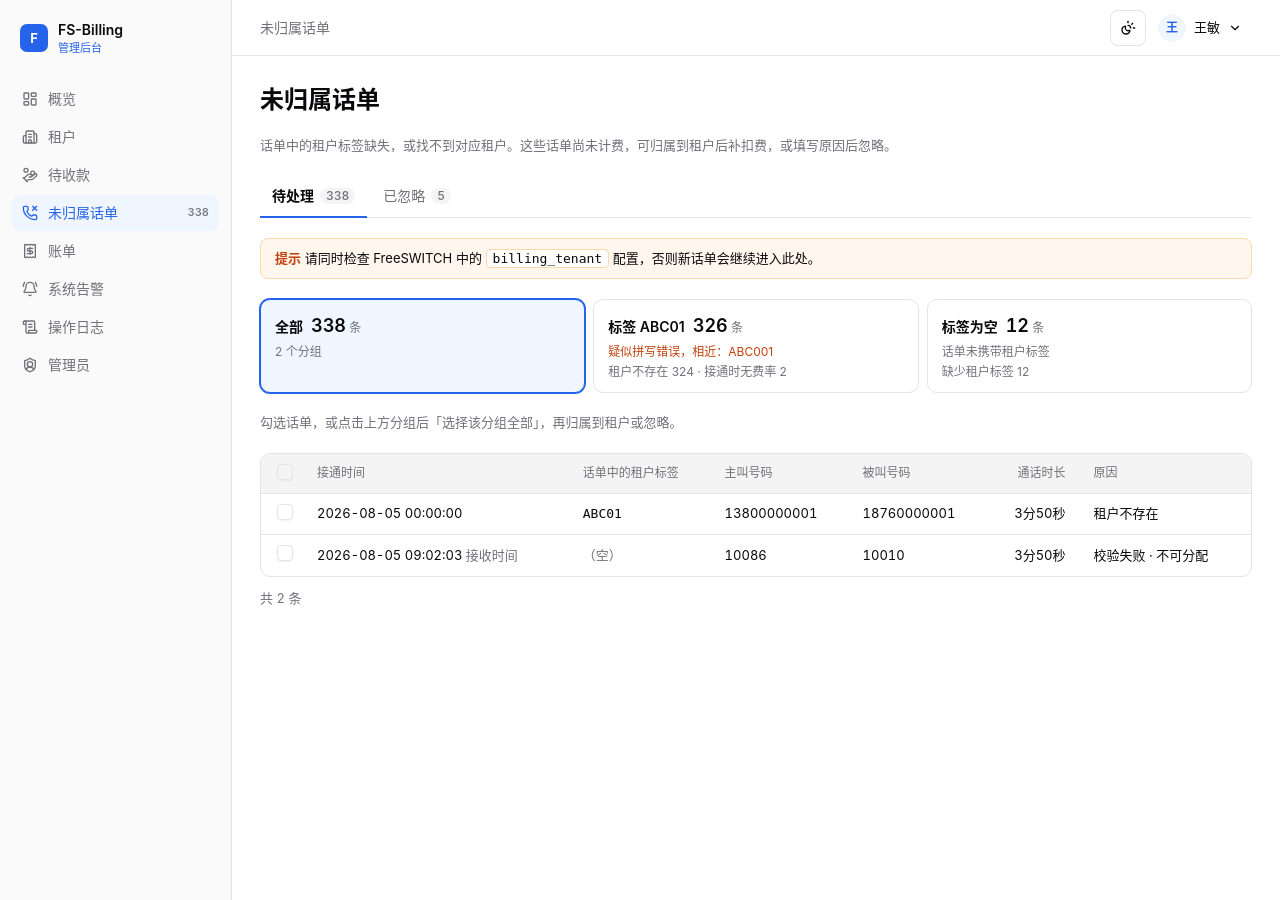
Test: unassigned calls › groups a similar tenant, then shows affected months before and after assigning
Expected: the text "billing_tenant" is shown, [493,250,602,266]
Expected: the text "billing_tenant" reads "提示 请同时检查 FreeSWITCH 中的 billing_tenant 配置，否则新话单会继续进入此处。", [275,248,821,268]
Click the button "标签 ABC01 326 条 疑似拼写错误，相近：ABC001 租户不存在 324 · 接通时无费率 2": click(756, 346) [593,299,919,393]
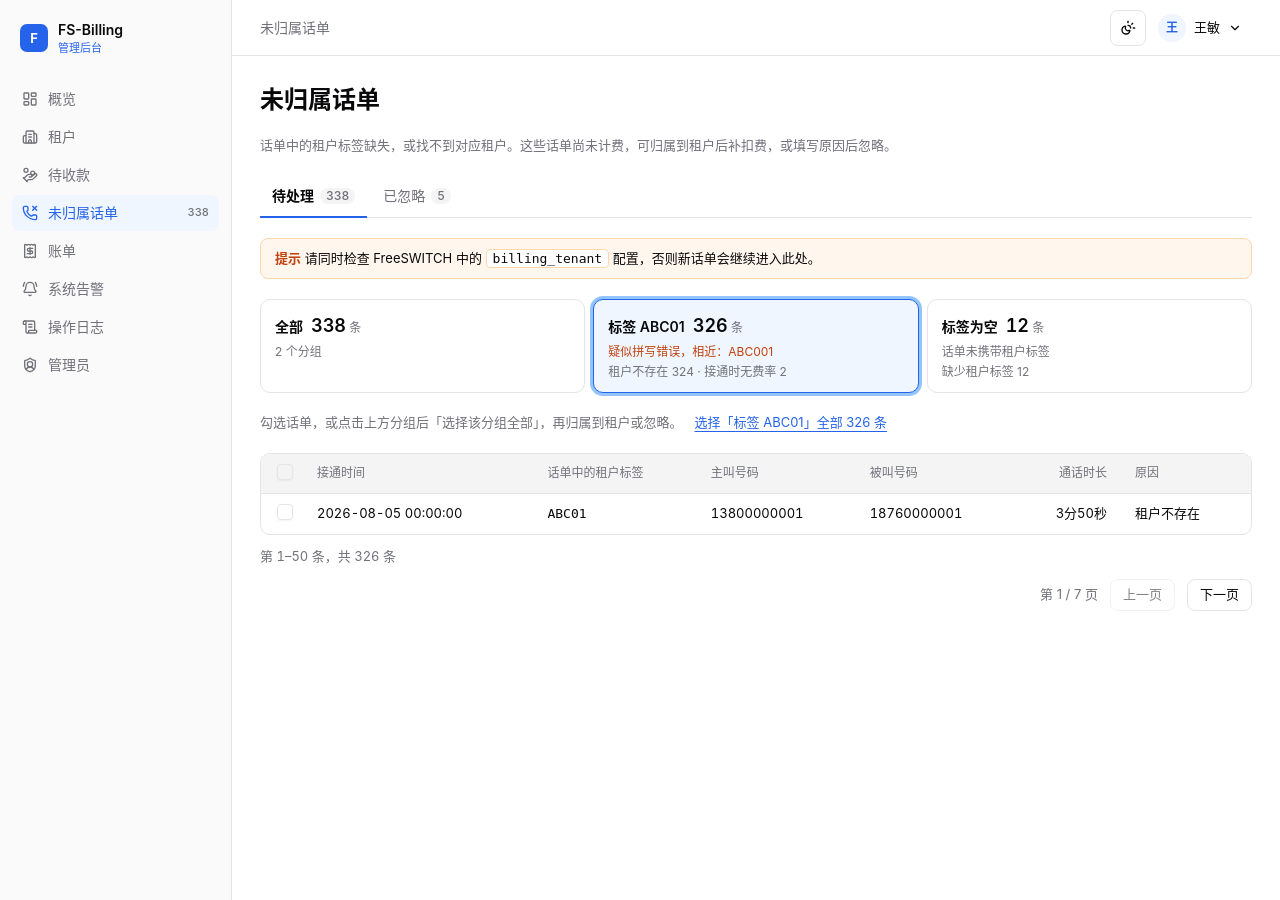
Click the button "选择「标签 ABC01」全部 326 条": click(791, 423) [694,413,887,432]
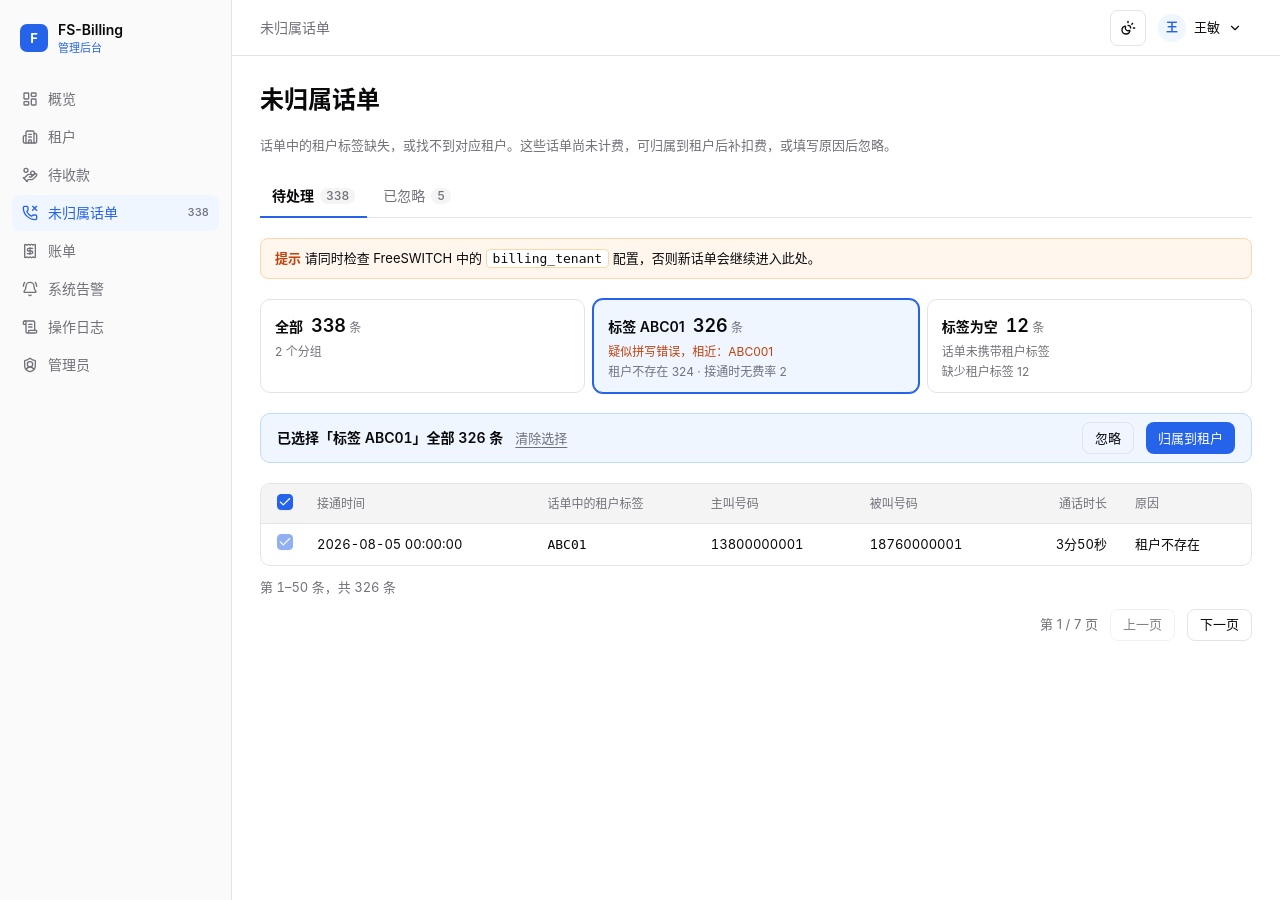
Click the button "归属到租户": click(1190, 438) [1146,422,1235,454]
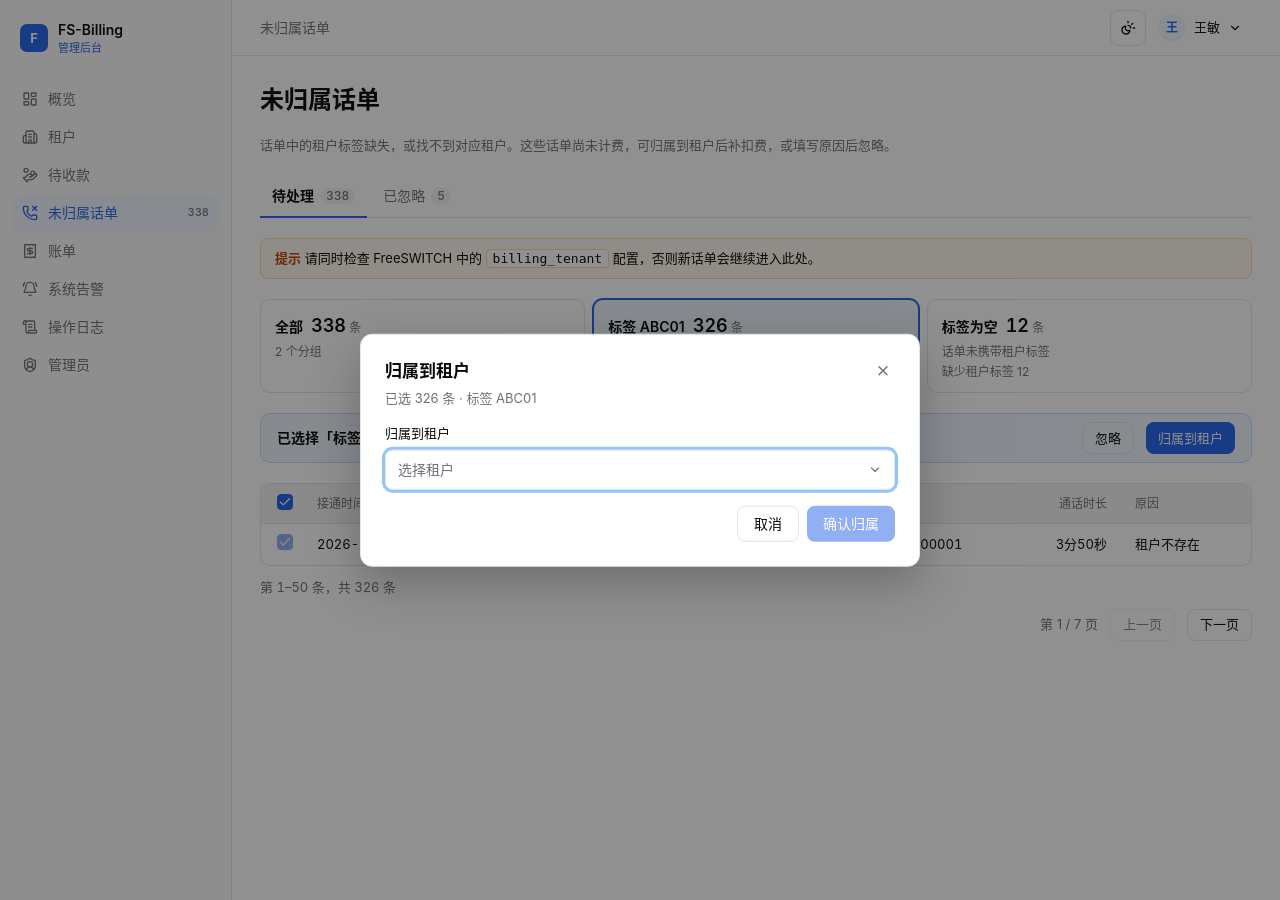
Result: the dropdown named "归属到租户：选择租户" reads "选择租户"
Click the dropdown named "归属到租户：选择租户": click(426, 469) [385,449,895,489]
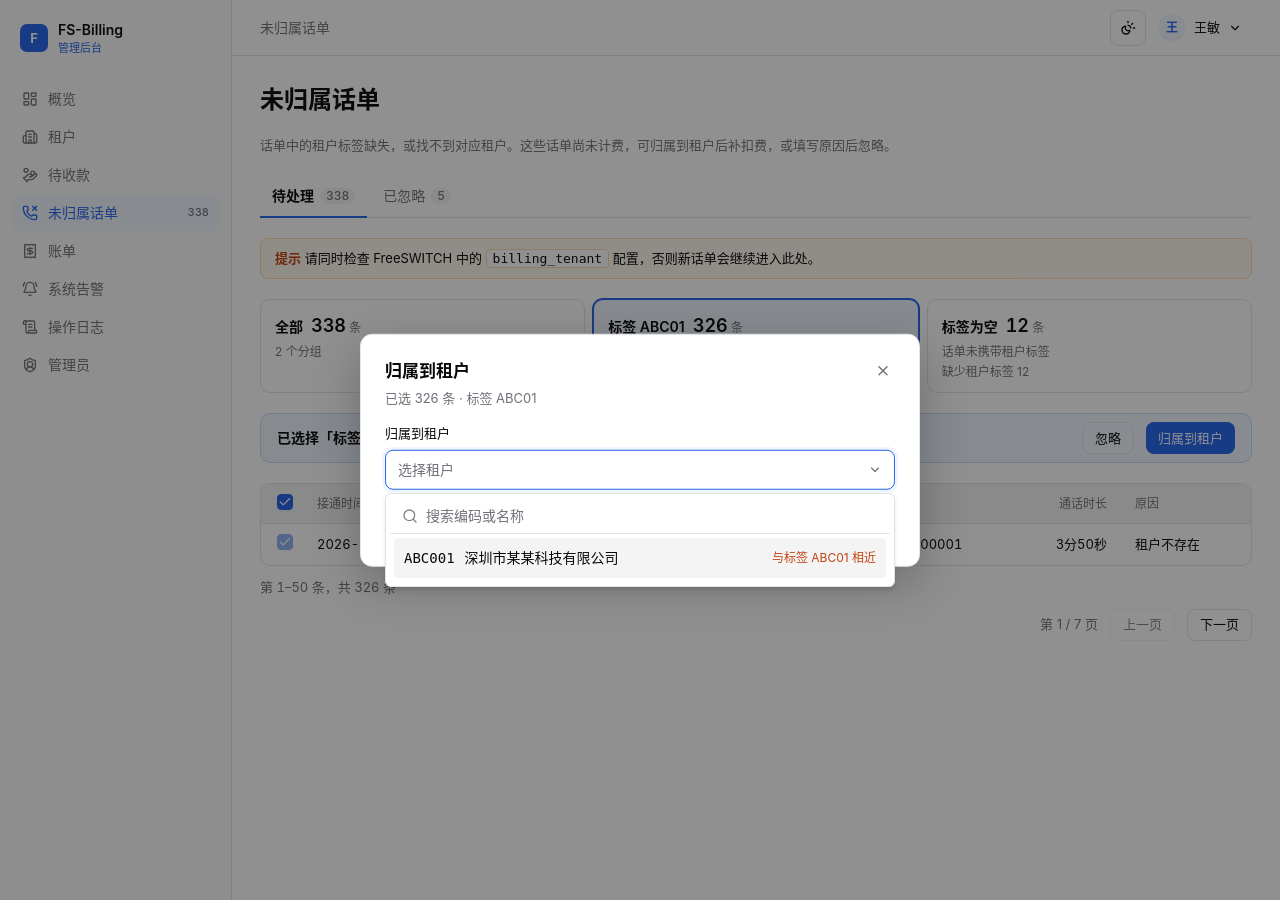
Result: the option "ABC001 深圳市某某科技有限公司 与标签 ABC01 相近" is shown
Result: the dropdown labelled "搜索编码或名称" is shown at [426,498,878,536]
Click the option "ABC001 深圳市某某科技有限公司 与标签 ABC01 相近": click(429, 558) [394,538,886,578]
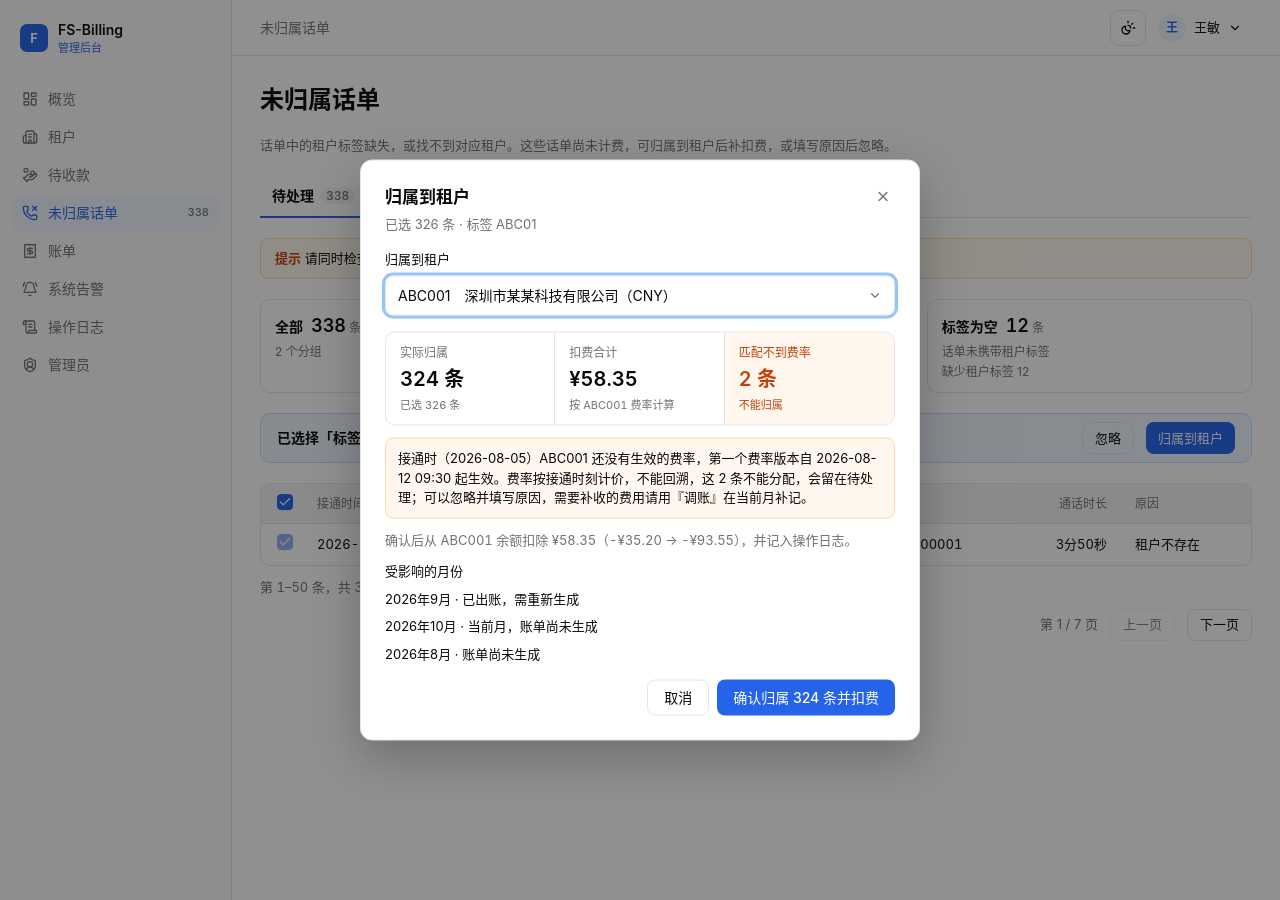
Result: the option is gone
Result: the dropdown named "归属到租户：ABC001　深圳市某某科技有限公司（CNY）" reads "ABC001 深圳市某某科技有限公司（CNY）" at [385,275,895,315]
Result: the text "324 条" is shown at [400,366,464,390]
Click the button "确认归属 324 条并扣费": click(806, 698) [717,680,895,716]
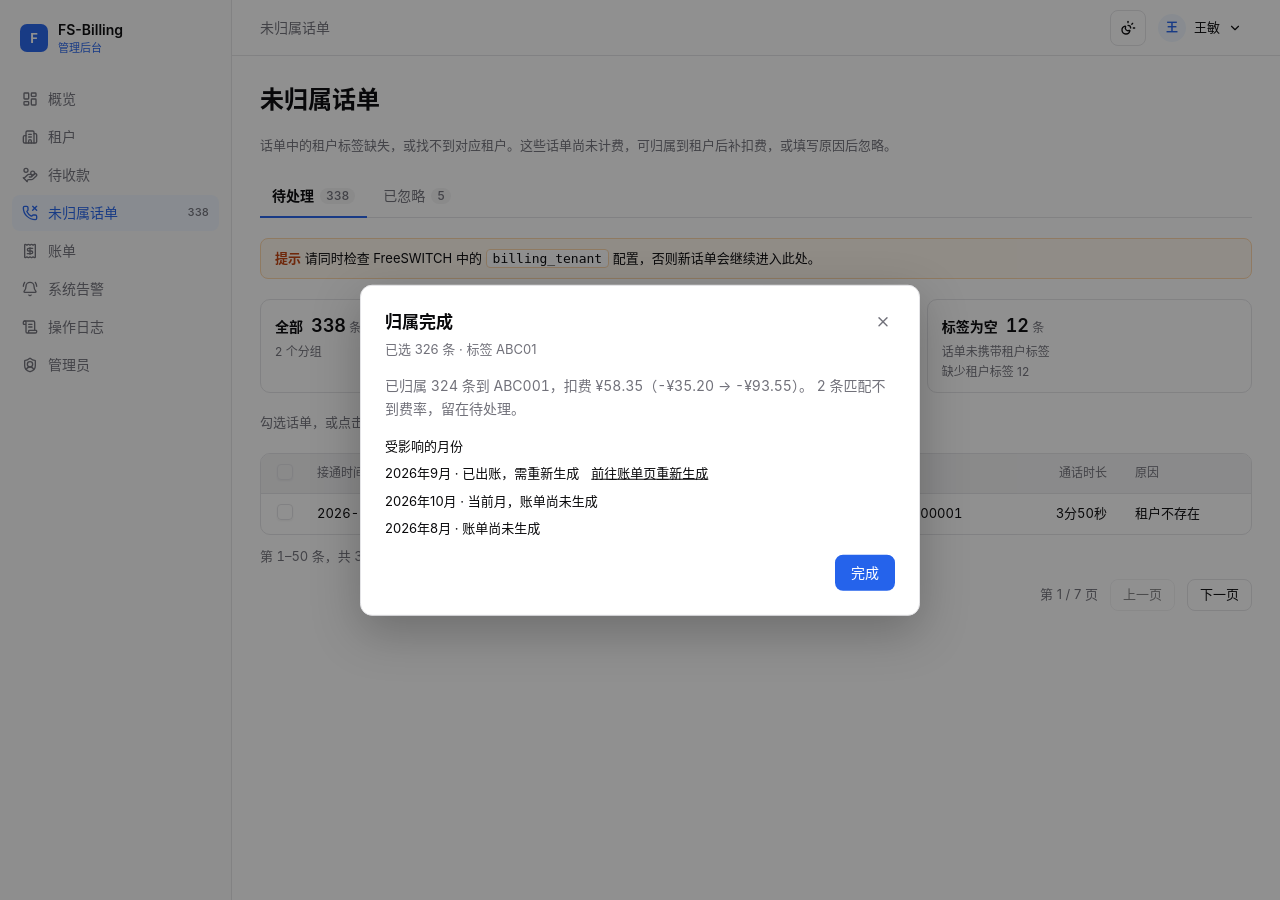
Result: the dialog named "归属到租户" shows "2026年9月 · 已出账，需重新生成" at [360,285,920,615]
Result: the heading "归属完成" is shown at [385,312,453,332]
Result: the dialog named "归属到租户" shows "已归属 324 条到 ABC001" at [385,377,813,394]
